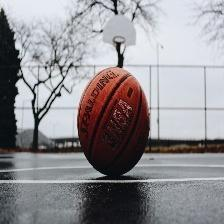Sports-Ball: (70, 64, 154, 182)
